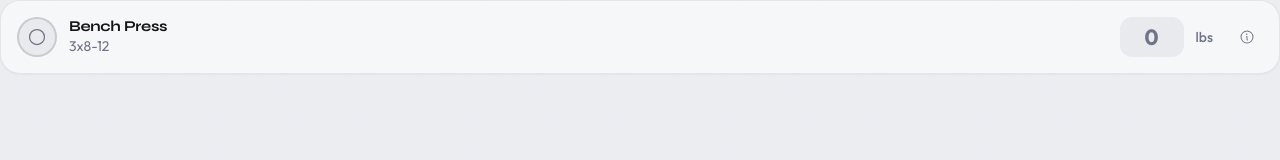
Test: ExerciseCard › weight input › only allows numeric input
Type "abc123" into the field with placeholder "0" at (1152, 37), box [1120,17,1184,57]
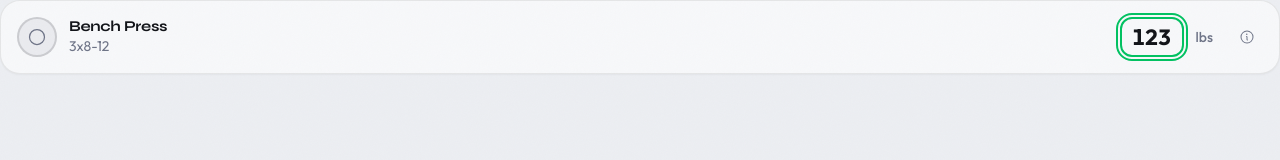
Check: the field with placeholder "0" holds "123", box [1120,17,1184,57]
